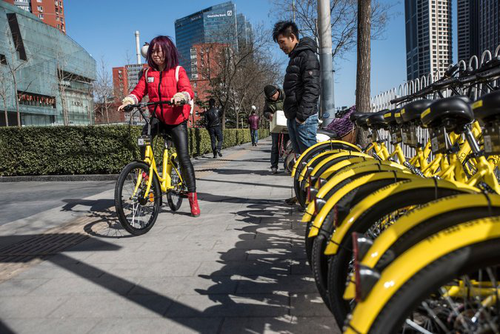bikerider: (97, 34, 222, 236)
